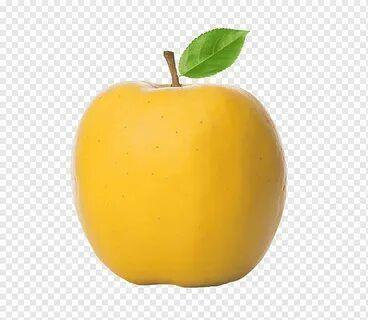Apple: (74, 83, 286, 284)
